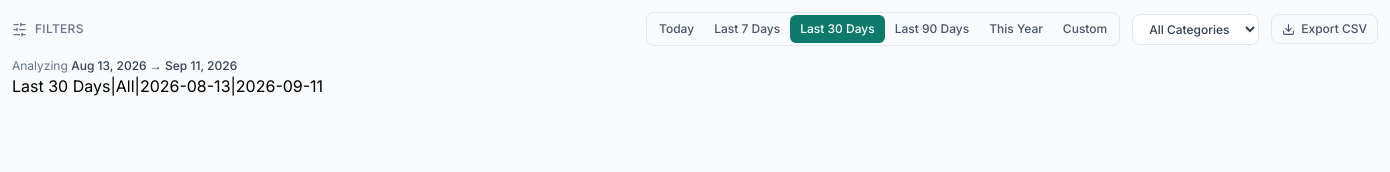
Test case: Filter interaction › Reset Filters restores the default preset and category
Step 1. Click the button "Last 90 Days" → (932, 29), box 885,15 -> 979,43
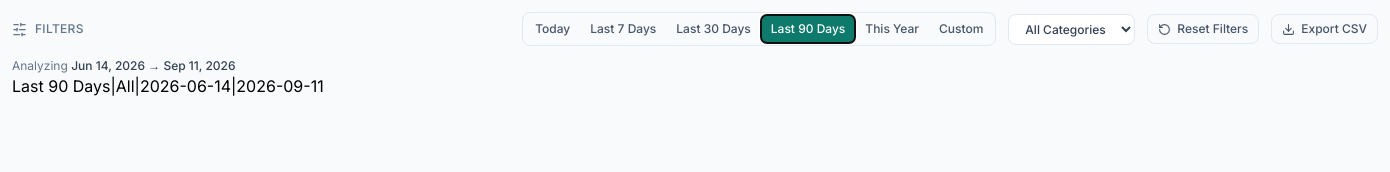
Step 2. Select "Electronics" in the dropdown → (1072, 29), box 1008,14 -> 1135,44
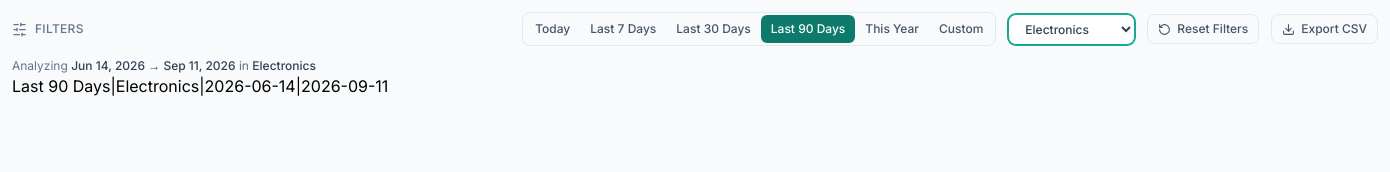
Check: the text with test id "state" shows "Electronics", box 116,76 -> 199,96
Step 3. Click the button "Reset Filters" → (1203, 29), box 1147,14 -> 1259,44
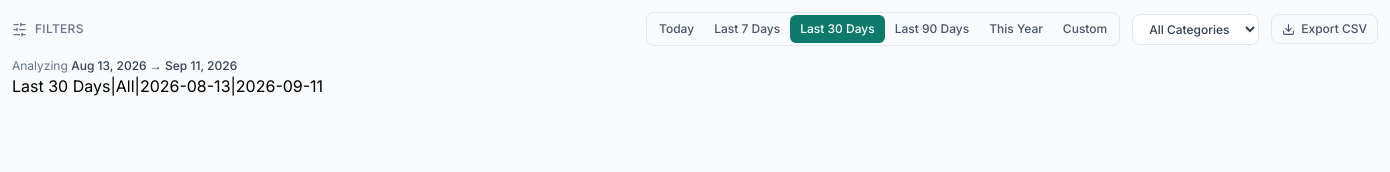
Check: the text with test id "state" shows "Last 30 Days|All|", box 12,76 -> 323,96
